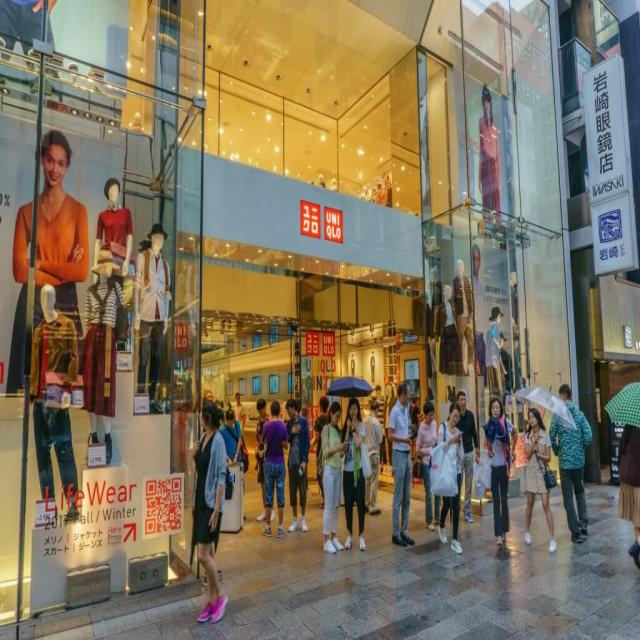body: (1, 0, 220, 546), (334, 111, 536, 476), (189, 397, 235, 626), (548, 379, 594, 545), (428, 398, 467, 556), (481, 394, 518, 547), (521, 406, 558, 556), (386, 381, 418, 547), (314, 399, 347, 555), (341, 396, 373, 552), (259, 398, 290, 539), (283, 396, 311, 534), (616, 422, 640, 571), (455, 389, 481, 524), (414, 401, 440, 531), (254, 397, 276, 523), (362, 400, 384, 516), (309, 395, 330, 510), (218, 408, 250, 476), (409, 396, 425, 471), (234, 392, 248, 436)
